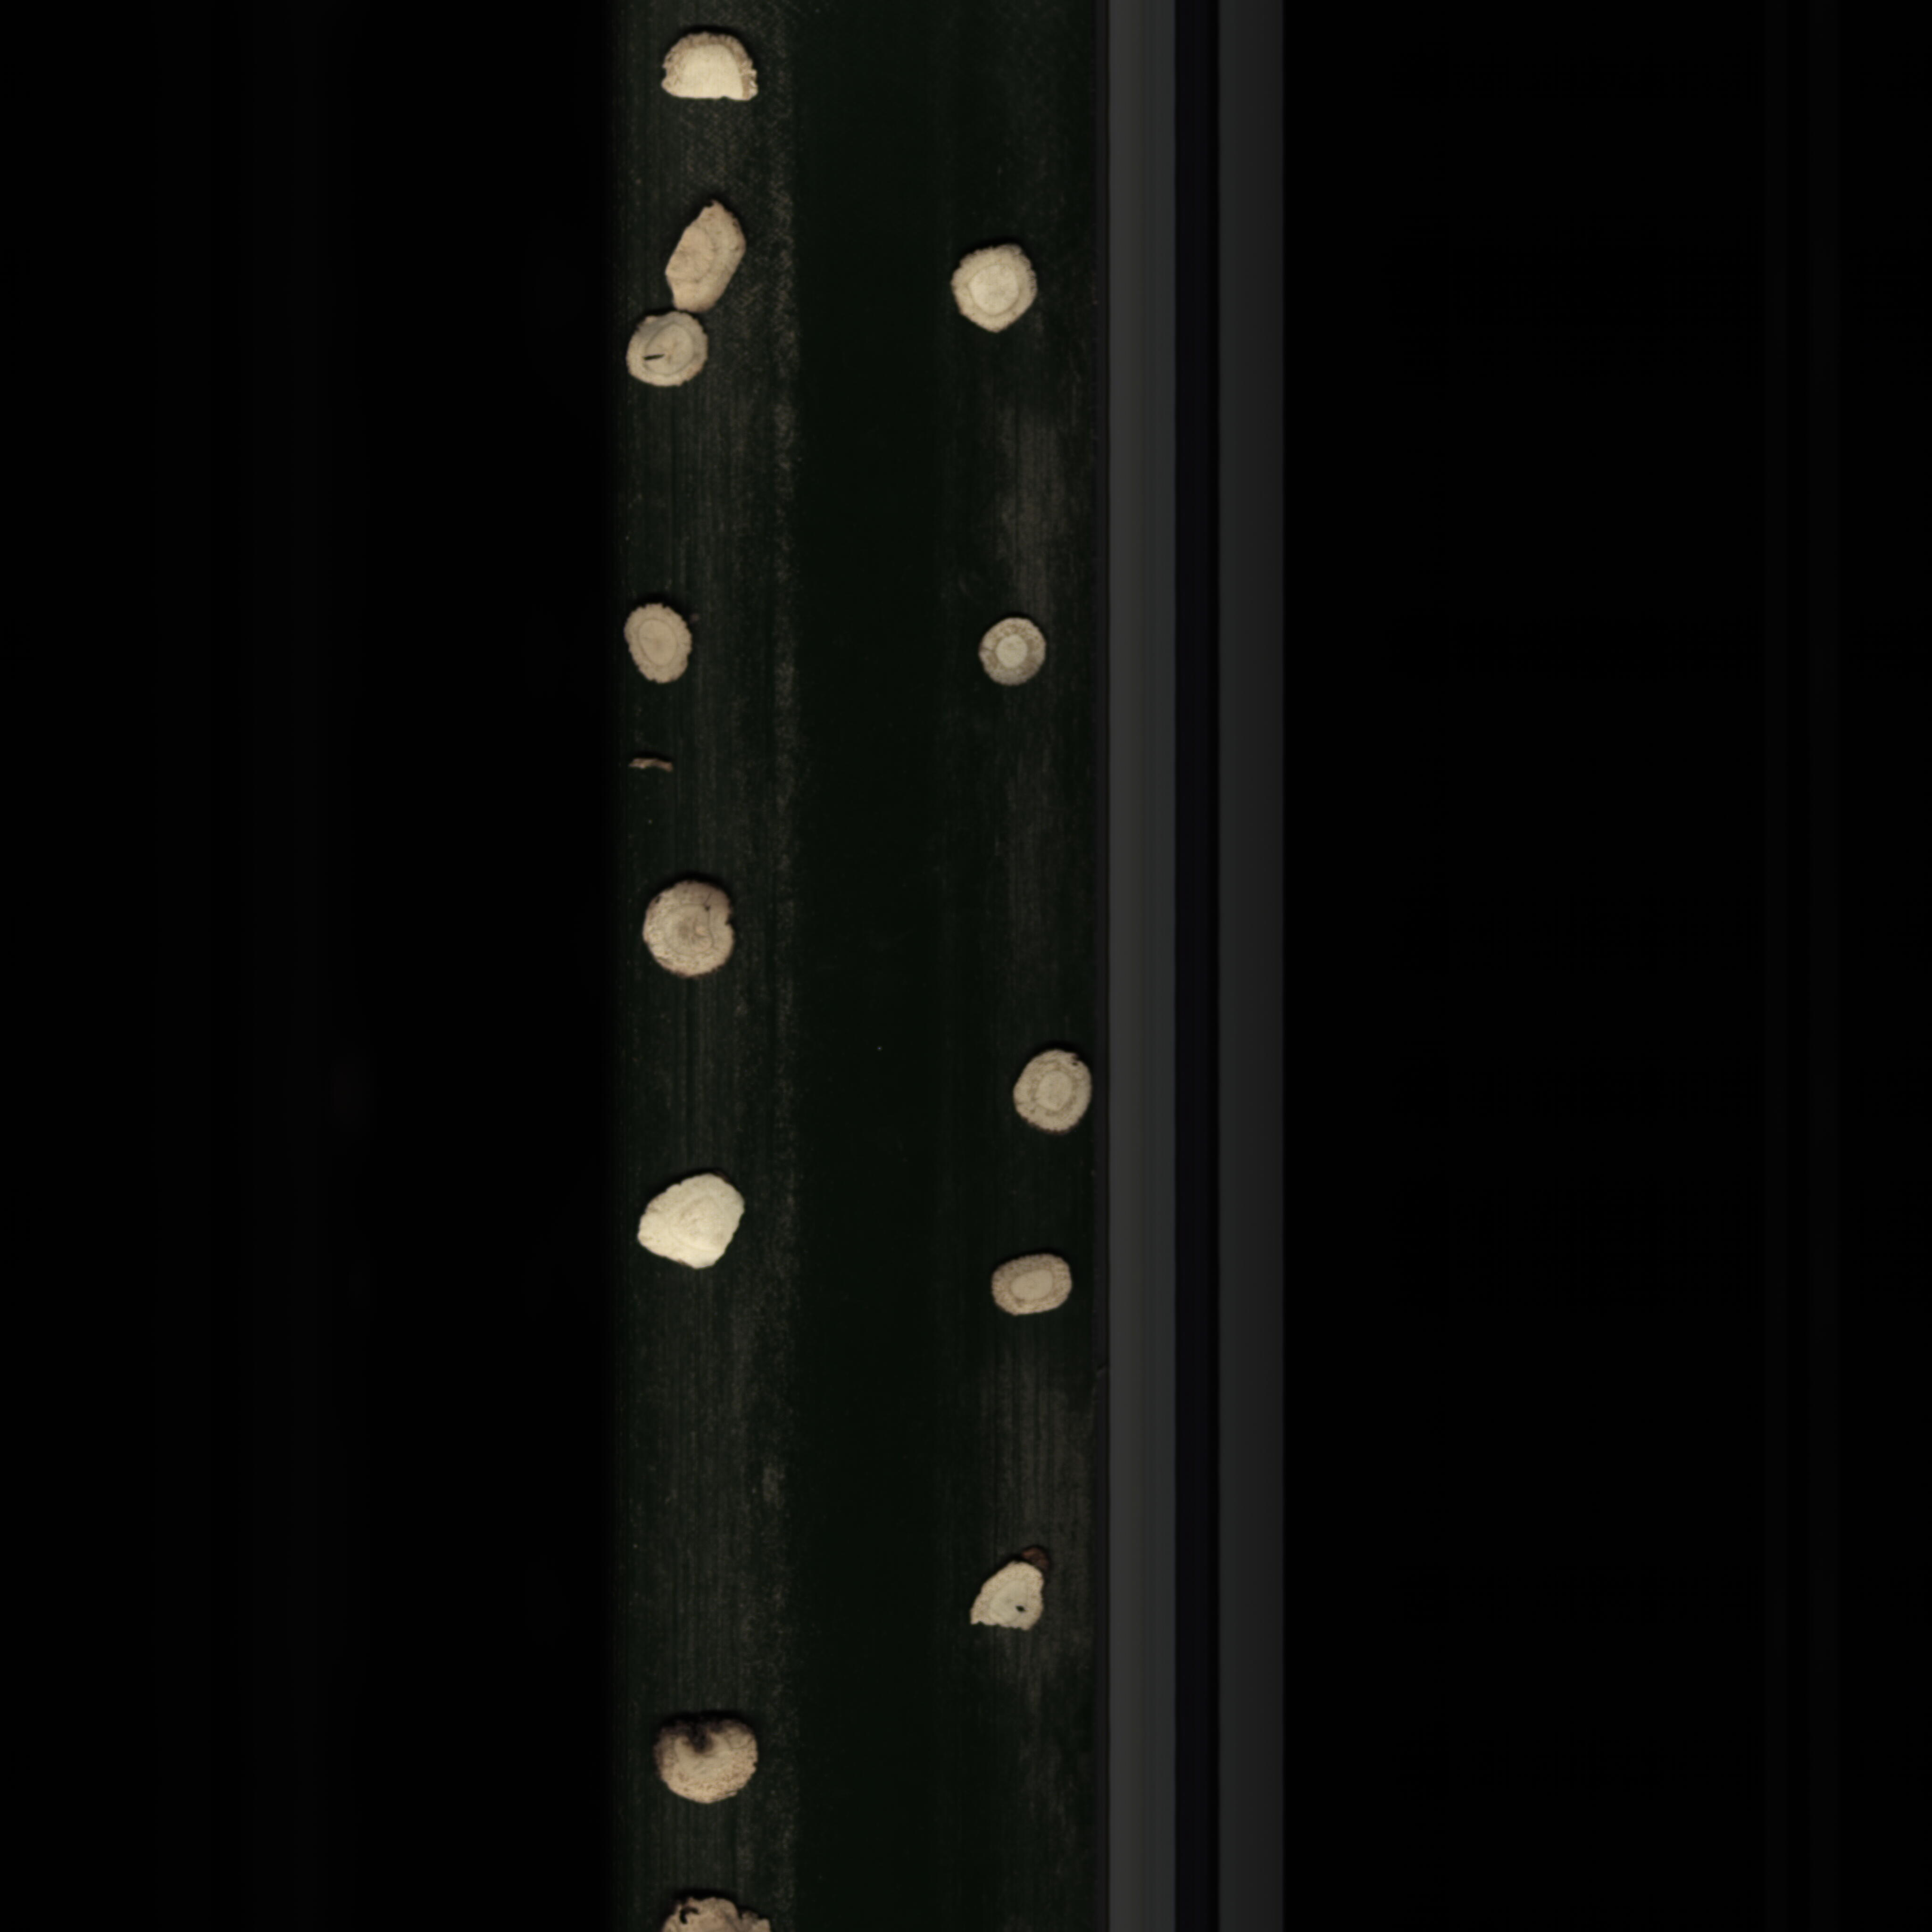bark: (623, 750, 697, 793)
debris: (962, 1530, 1065, 1654), (658, 200, 757, 313), (653, 30, 764, 122)
distortion: (637, 1711, 777, 1822)
hole: (626, 303, 713, 418)
